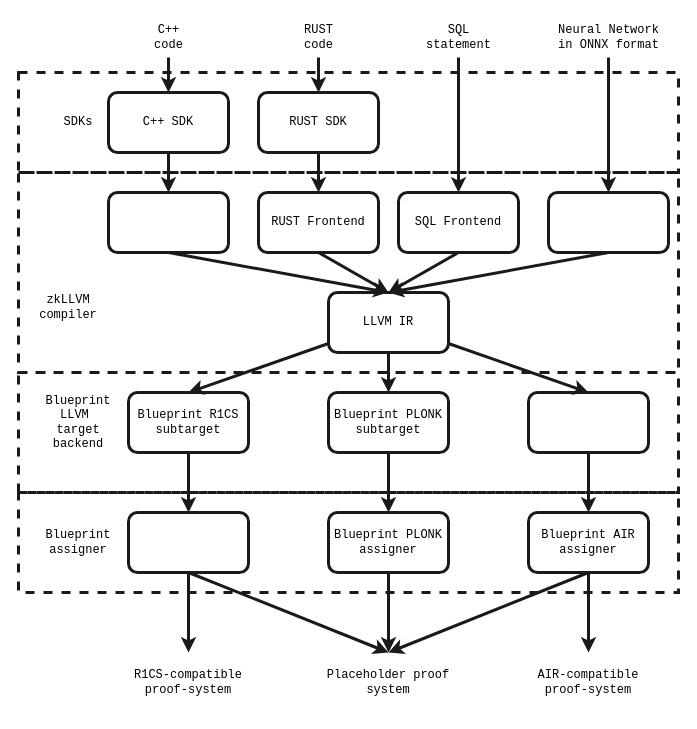
Some shapes in this 697 by 729 pixel diagram are drawn without their labels. The box of each missing label's shape, as (x1, y1, x2, y2) in pixels:
Blueprint AIR subtarget: (526, 390, 650, 454)
Blueprint R1CS assigner: (126, 510, 250, 574)
Clang Frontend: (106, 190, 230, 254)
ONNX Frontend: (546, 190, 670, 254)
